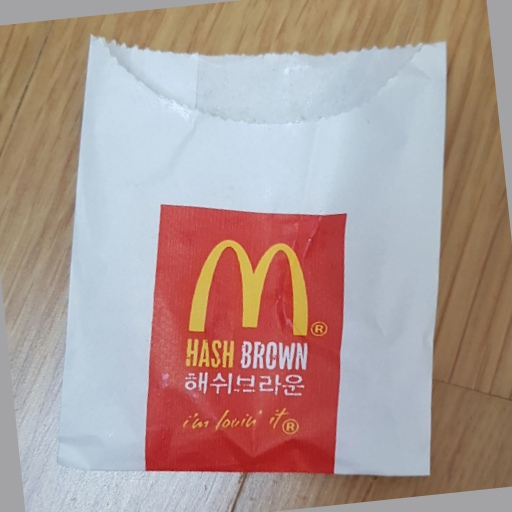Paper_2: (53, 25, 446, 480)
